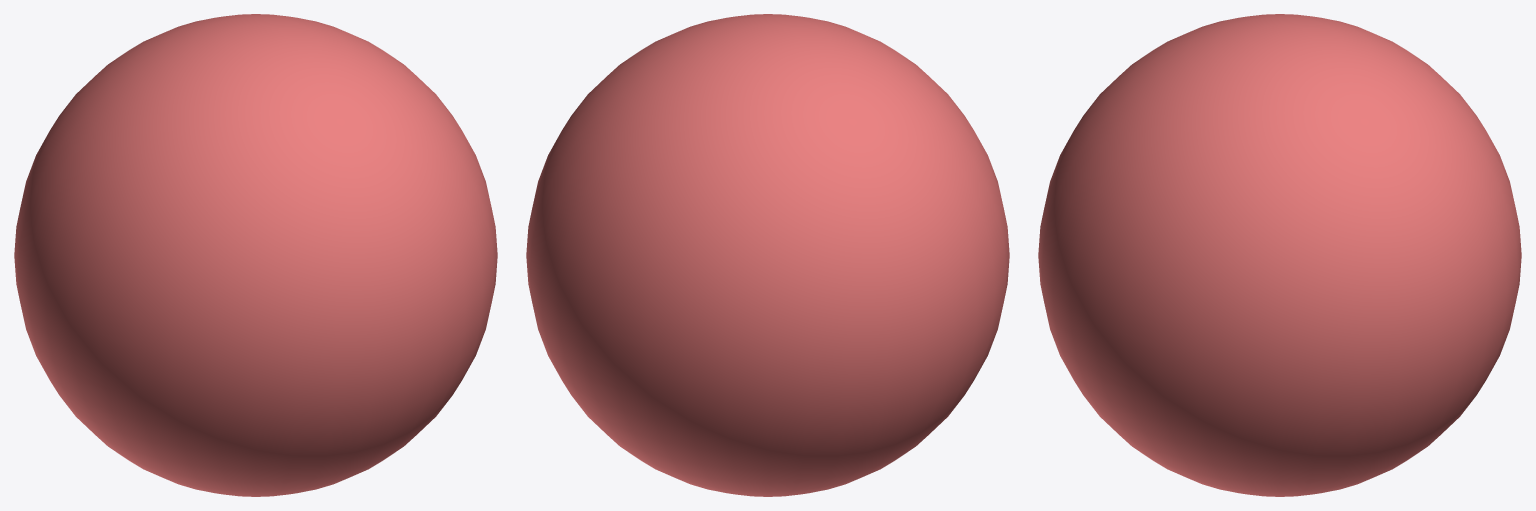
The model's file is cardiovascular.glb.
3 renders of one model, left to right at view 1: azimuth 30°, elevation 25°; view 2: azimuth 150°, elevation 25°; view 3: azimuth 270°, elevation 25°, orthographic.
Parts seen in each view (by area): view 1: Coracao; view 2: Coracao; view 3: Coracao.
Boxes of the visible parts, left/top/right/bottom form: Coracao: left=14, top=14, right=497, bottom=496; Coracao: left=526, top=14, right=1009, bottom=496; Coracao: left=1038, top=14, right=1521, bottom=496.
Size of the model in its own units: 0.1 by 0.1 by 0.1.
